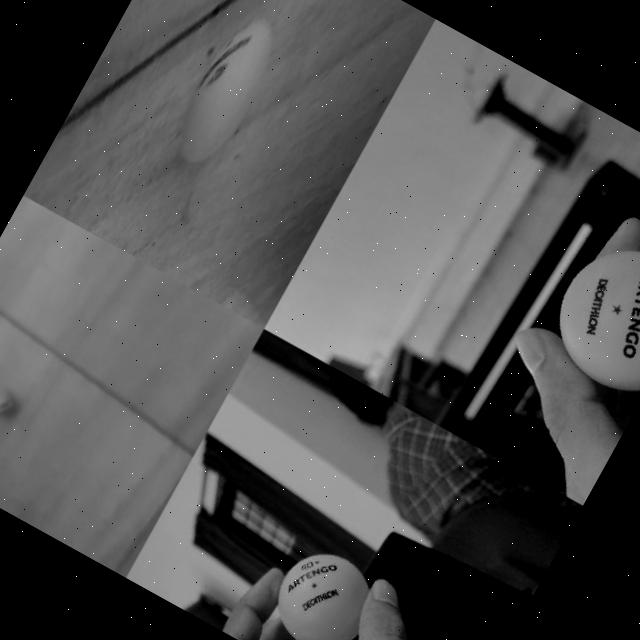ping-pong-ball: (164, 12, 288, 175), (532, 221, 640, 408), (260, 536, 387, 640), (0, 384, 19, 421)
